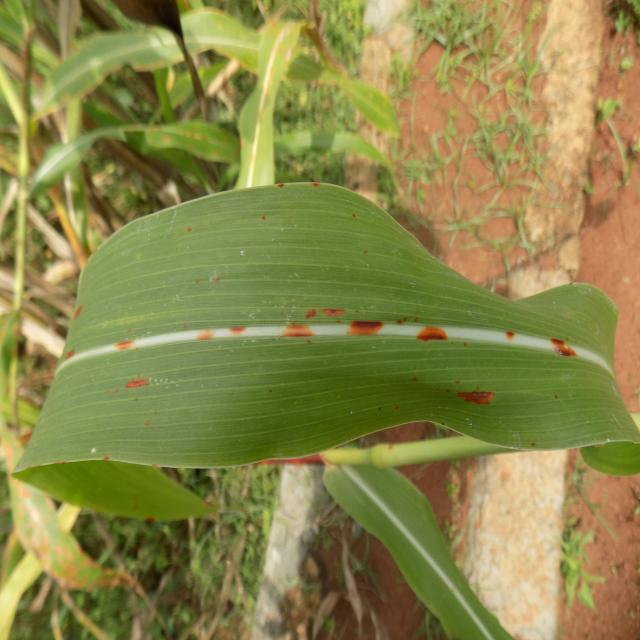millet_rust: (8, 178, 640, 526)
